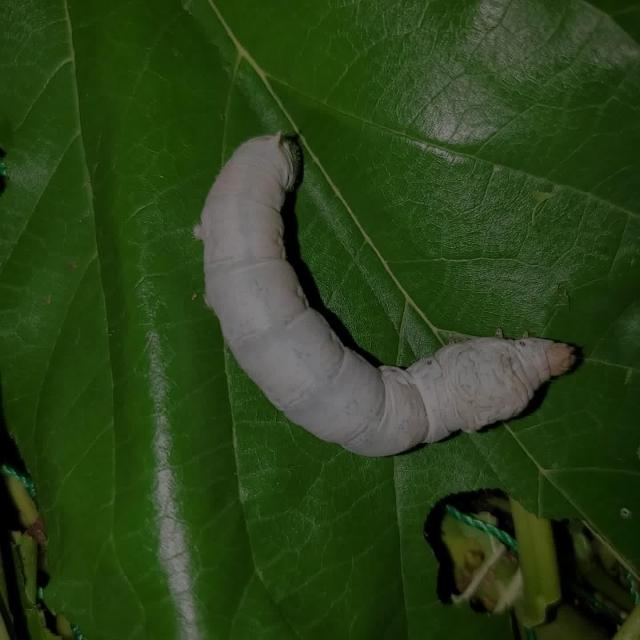Healthy: (189, 119, 582, 460)
